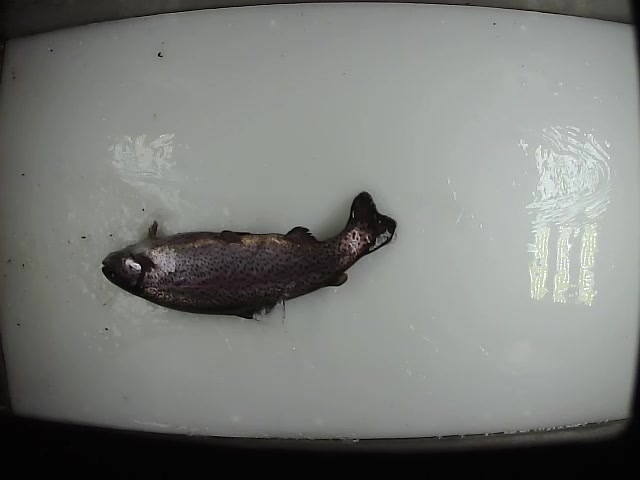Fish: (101, 189, 396, 319)
